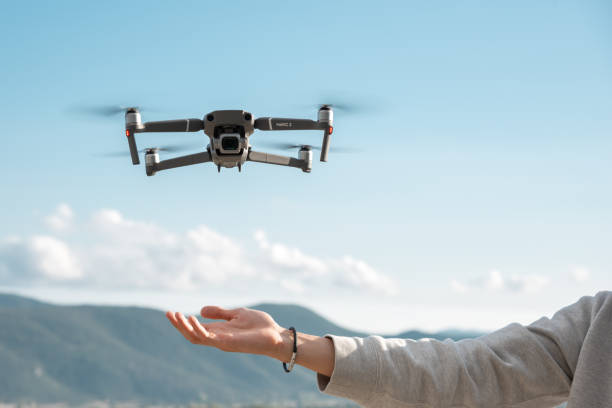Drone: (67, 95, 374, 178)
